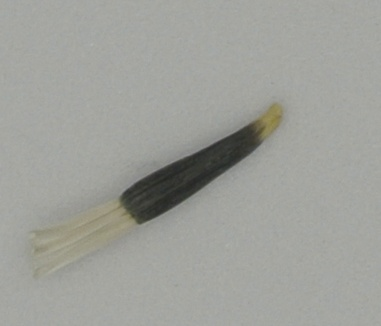เมล็ดดีติดกัน: (27, 97, 289, 282)
